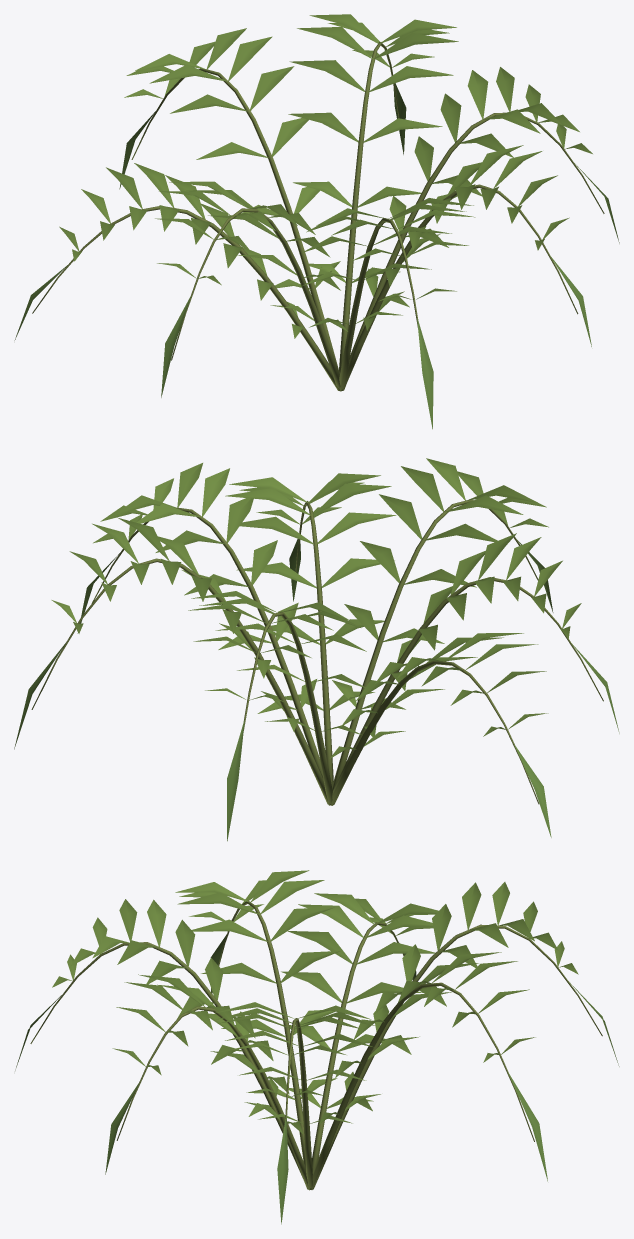
The model's file is fern_0_lod2.glb.
3 views of the same model, one above another, from view 1: azimuth 30°, elevation 25°; view 2: azimuth 150°, elevation 25°; view 3: azimuth 270°, elevation 25° (orthographic). The views are drawn at different scales.
Visible parts, largest first — view 1: fern_0_lod2; view 2: fern_0_lod2; view 3: fern_0_lod2.
Boxes of the visible parts, x1=… form: fern_0_lod2: x1=14, y1=14, x2=619, y2=429; fern_0_lod2: x1=14, y1=458, x2=619, y2=841; fern_0_lod2: x1=15, y1=870, x2=619, y2=1224.
Size of the model in its own units: 1.47 by 0.7408 by 1.51.
